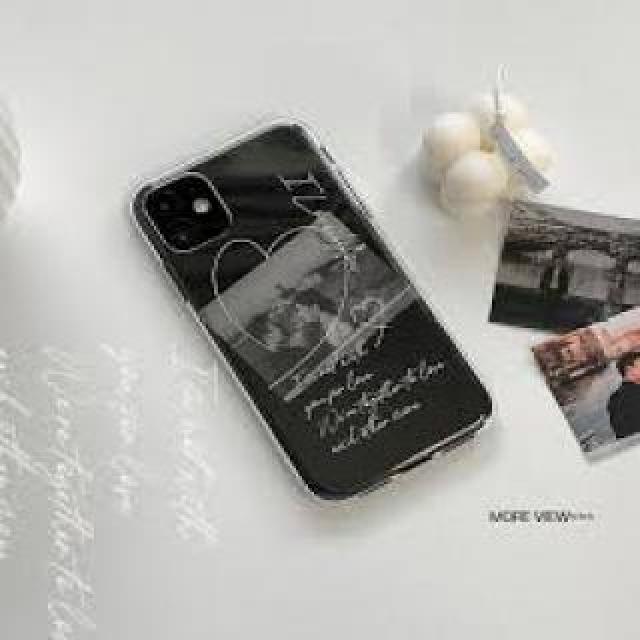smart phone: (102, 57, 498, 513)
